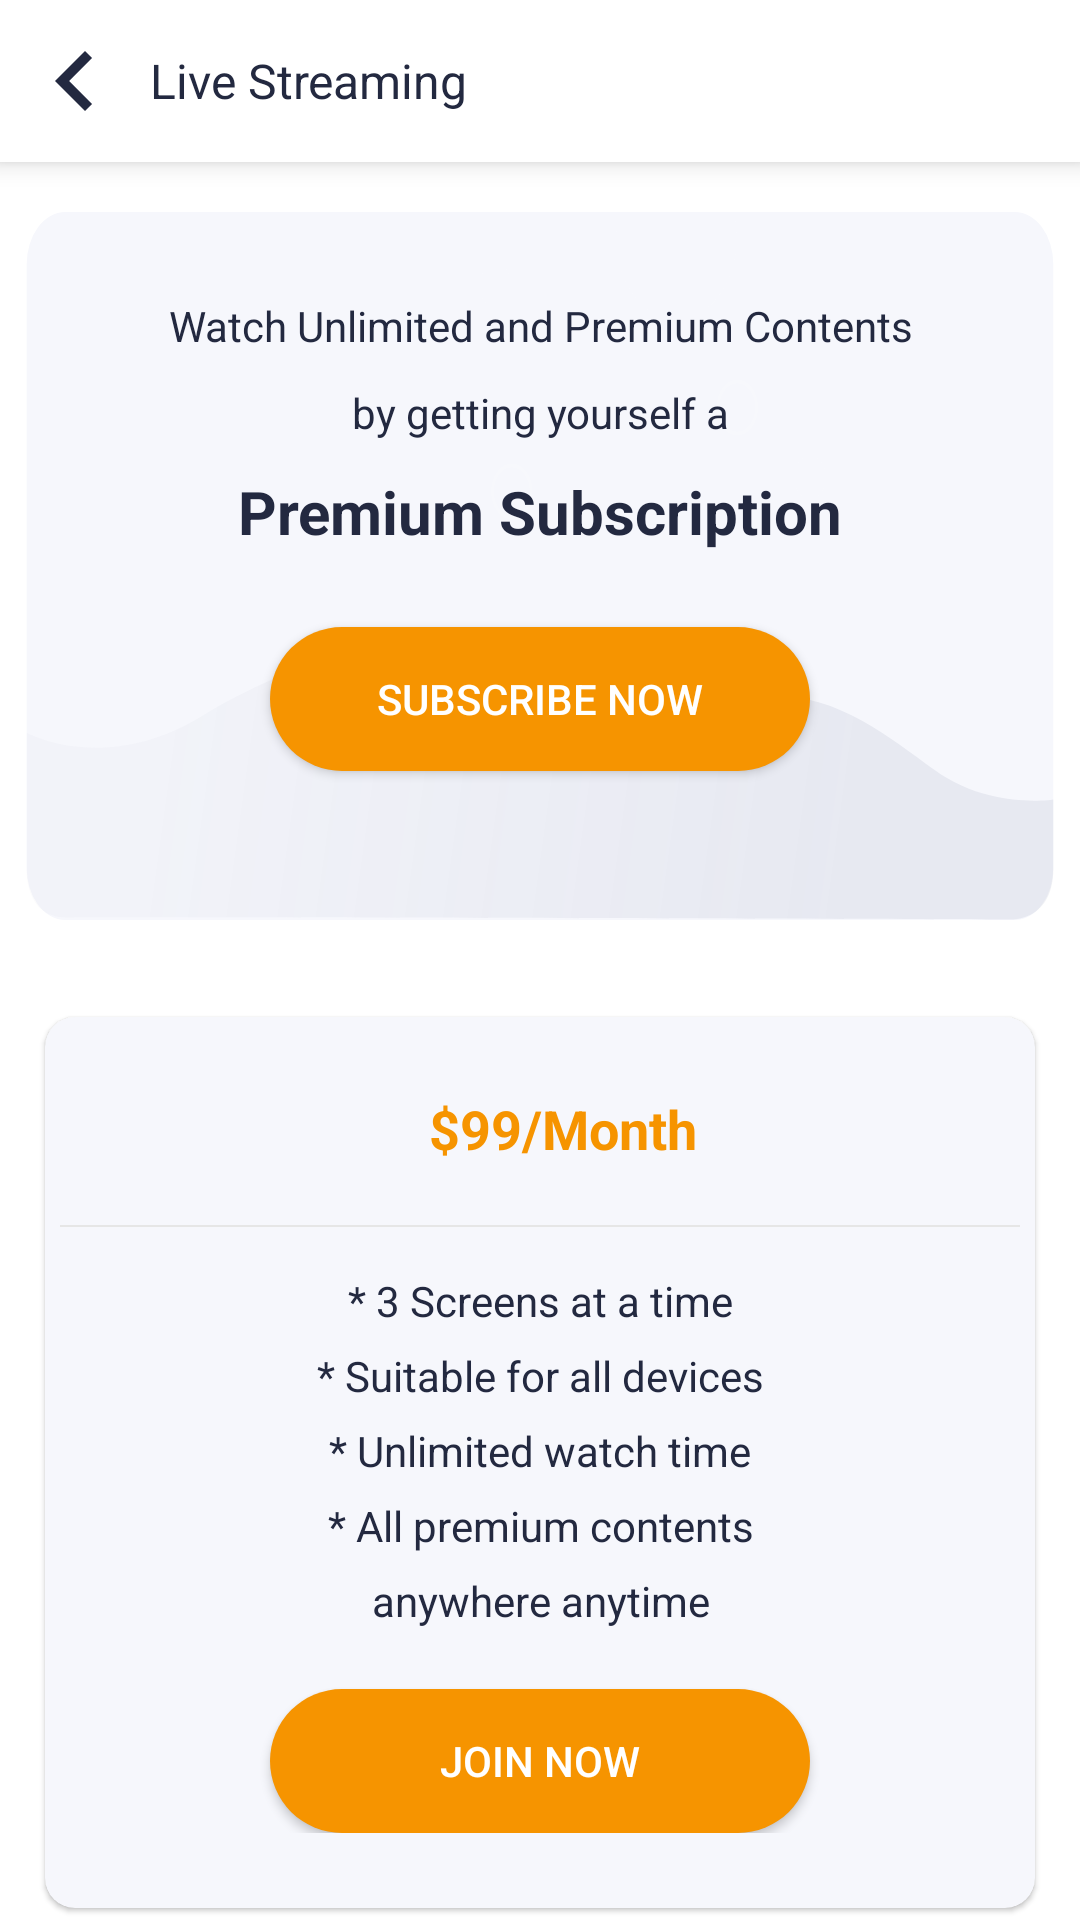

Icon bounding boxes for this 1080×1920 phone screenshot, format (x1,y1,x2,y2):
arrow left: (55,51,92,111)
